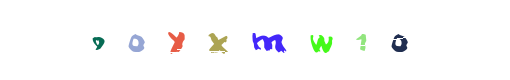1: (272, 0, 352, 80)
9: (137, 0, 217, 80)
M: (229, 0, 309, 80)
O: (148, 0, 228, 80), (281, 0, 361, 80)
W: (256, 0, 336, 80)
X: (215, 0, 295, 80)
Y: (179, 0, 259, 80)
